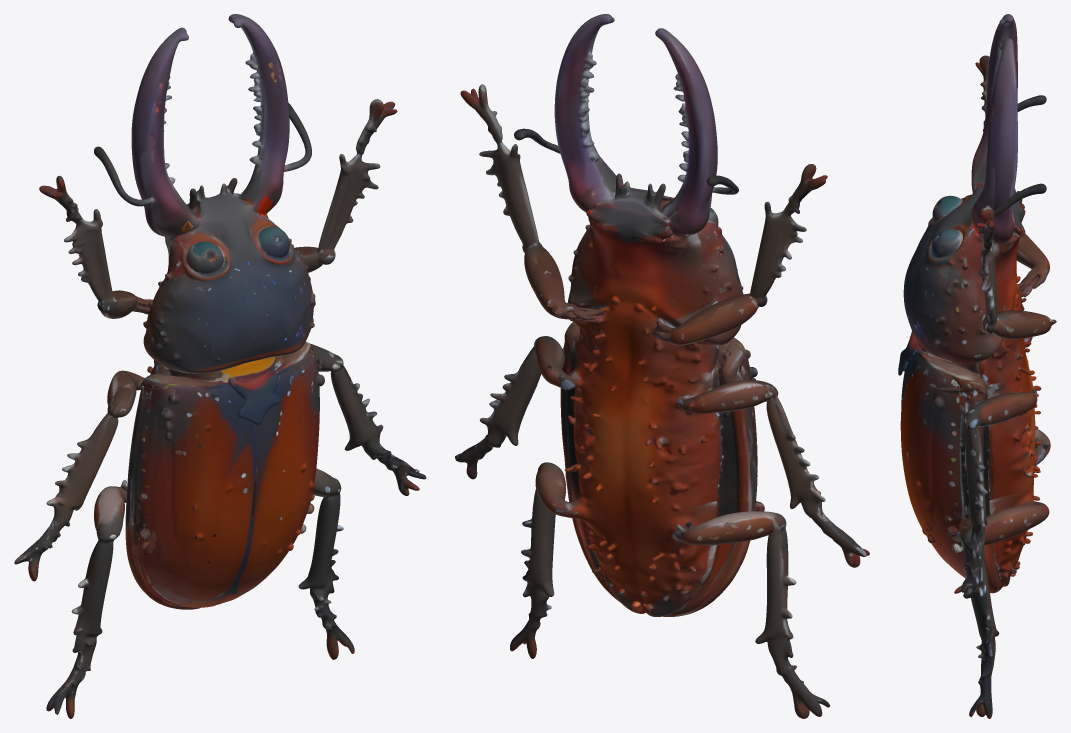
The model's file is StagBeetle.glb.
3 renders of one model, left to right at view 1: azimuth 30°, elevation 25°; view 2: azimuth 150°, elevation 25°; view 3: azimuth 270°, elevation 25°, orthographic. The views are drawn at different scales.
Parts seen in each view (by area): view 1: tripo_node_20cfe6e6-3aa7-4153-be12-0fac0a256182; view 2: tripo_node_20cfe6e6-3aa7-4153-be12-0fac0a256182; view 3: tripo_node_20cfe6e6-3aa7-4153-be12-0fac0a256182.
Part boxes in pixels (x1,y1,x2,y2): tripo_node_20cfe6e6-3aa7-4153-be12-0fac0a256182: (14,14,426,718); tripo_node_20cfe6e6-3aa7-4153-be12-0fac0a256182: (455,14,869,718); tripo_node_20cfe6e6-3aa7-4153-be12-0fac0a256182: (898,14,1056,718).
Size of the model in its own units: 0.6456 by 1 by 0.2256.
Materials: 1 (1 with a texture image).
